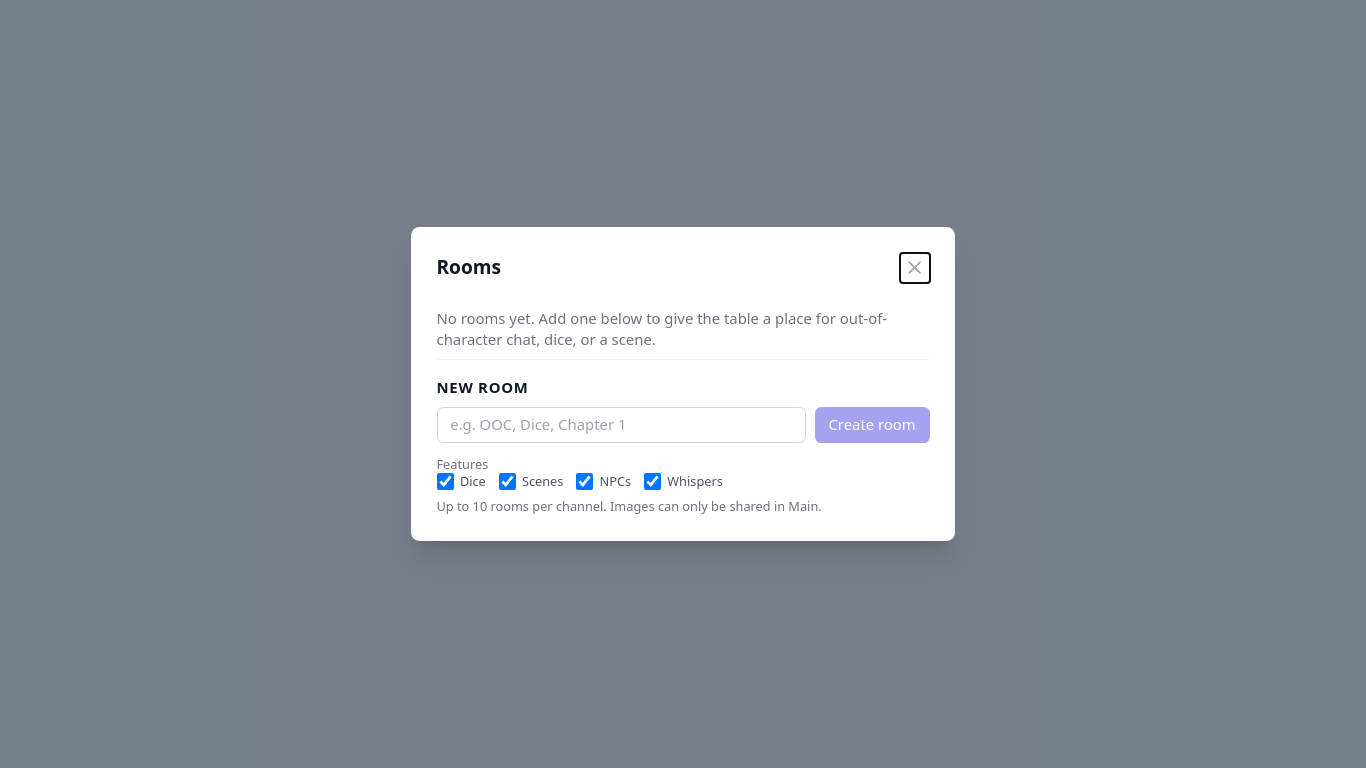
Test: ManageSubChannelsModal › surfaces a friendly message for a duplicate name
In the field labelled "New room": (621, 425) [436,407,806,443], type "OOC"
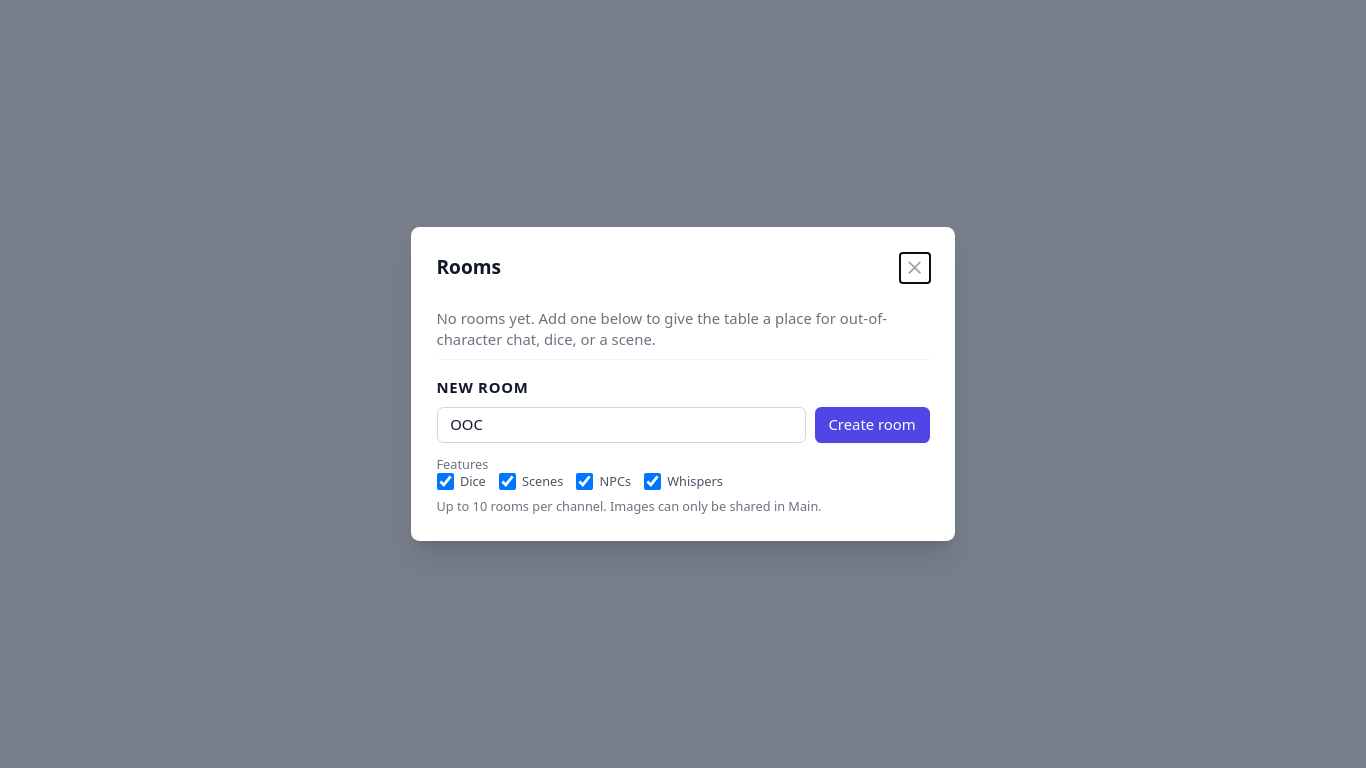
Click the button "Create room": (872, 425) [815,407,930,443]
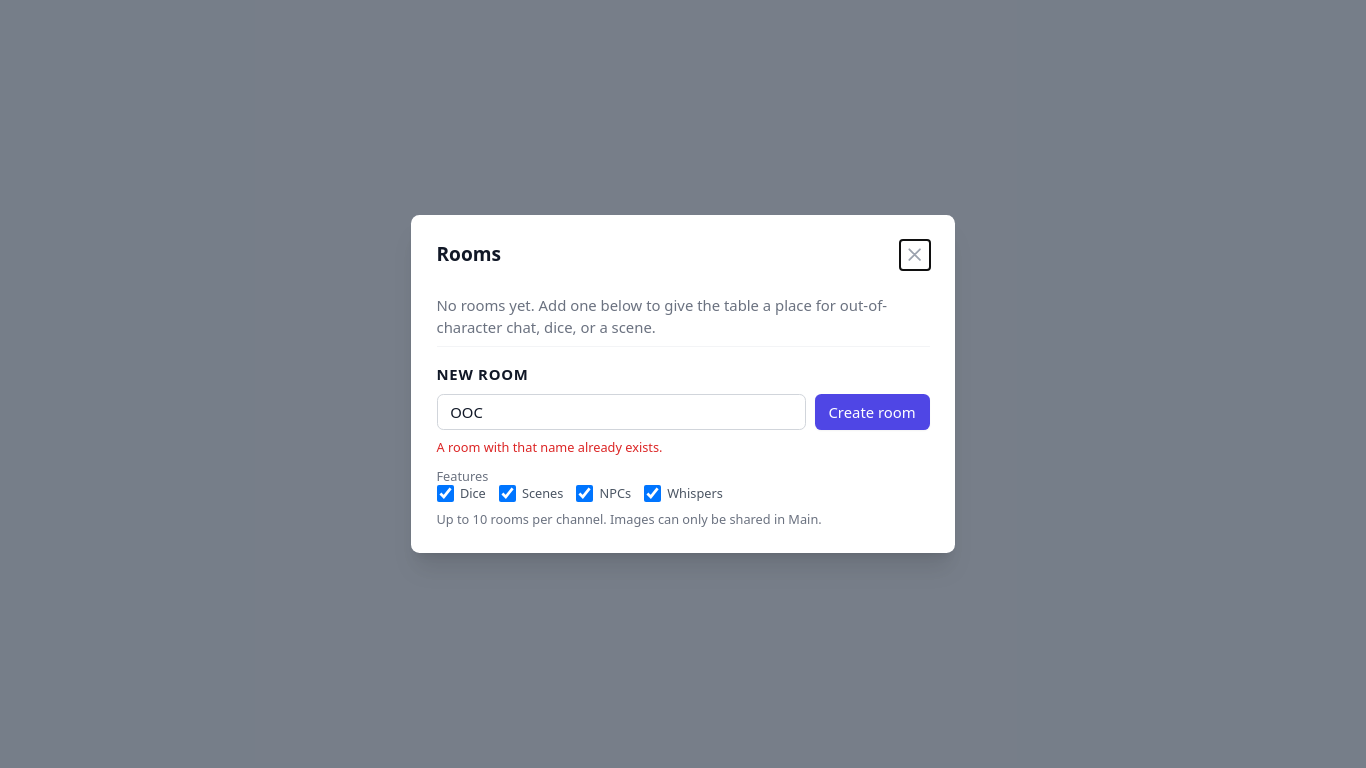
Expected: the text "A room with that name already exists." is shown, [436,438,662,456]
